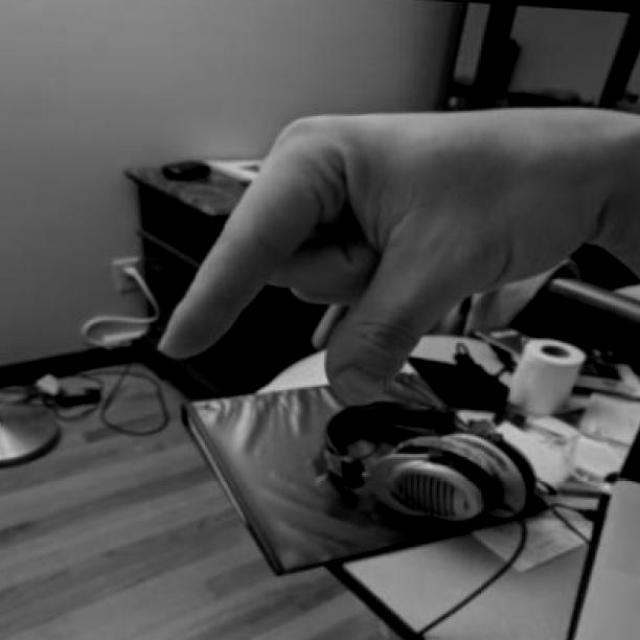Q: (130, 98, 640, 420)
